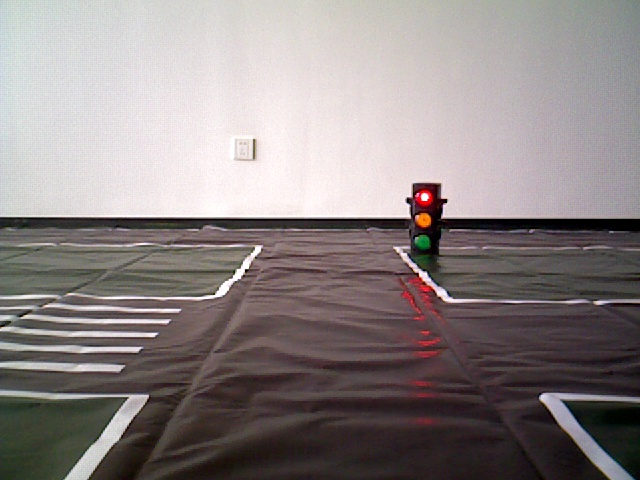red: (410, 187, 436, 251)
